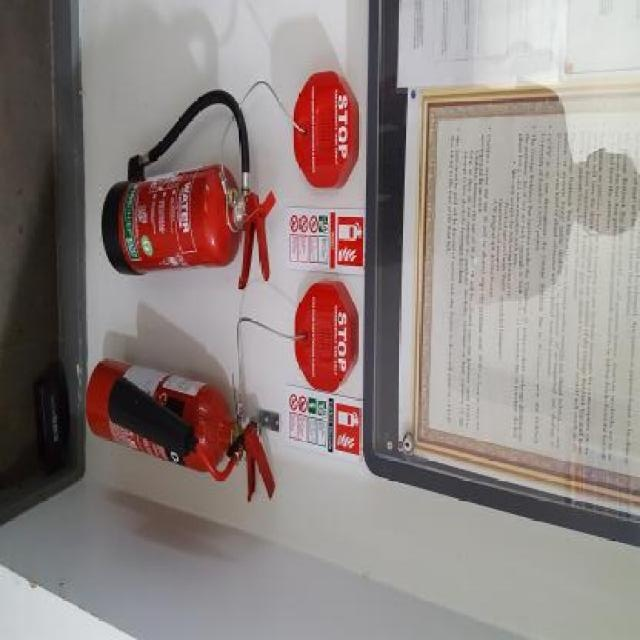fire extinguisher: (99, 85, 278, 283), (84, 358, 276, 496)
